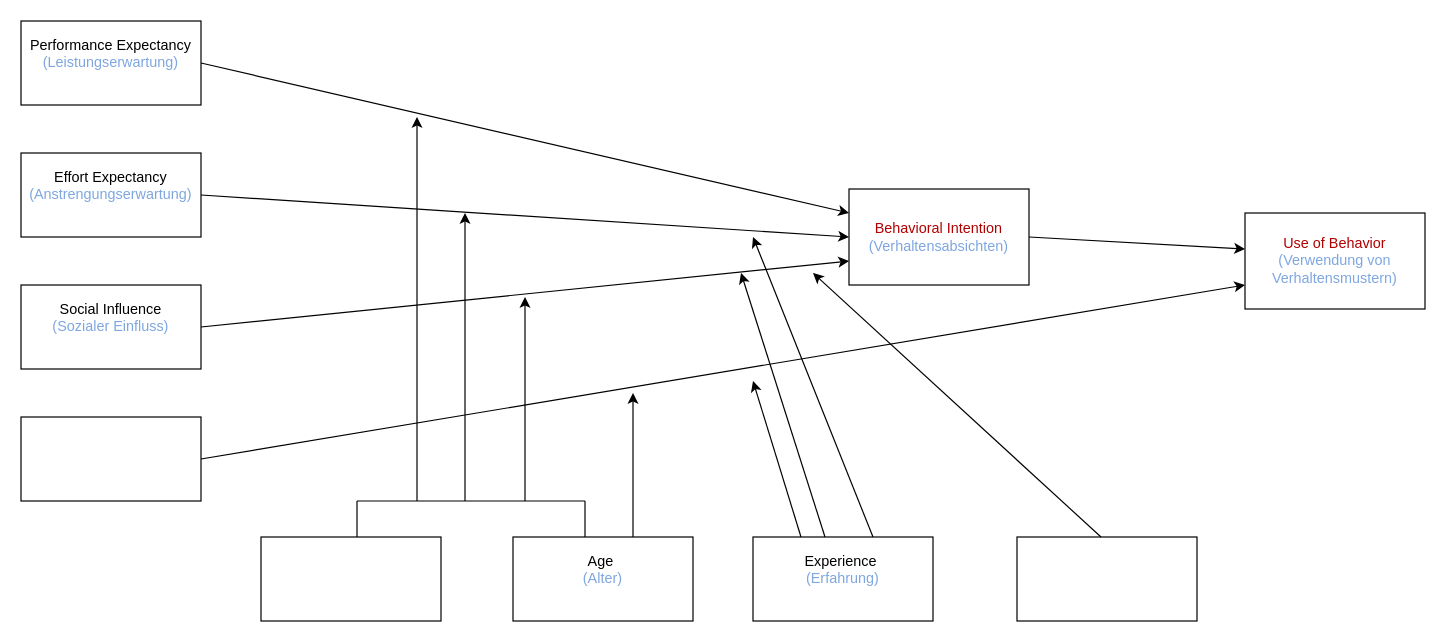
The diagram is 1446 pixels wide and 642 high, and some of its shapes have lost their labels. Each missing label, with the centre of its shape:
Facilitating Conditions (Erleichternde Voraussetzungen): (110,458)
Gender (Geschlecht): (350,578)
Voluntariness of Use (Freiwilligkeit der Nutzung): (1106,578)
